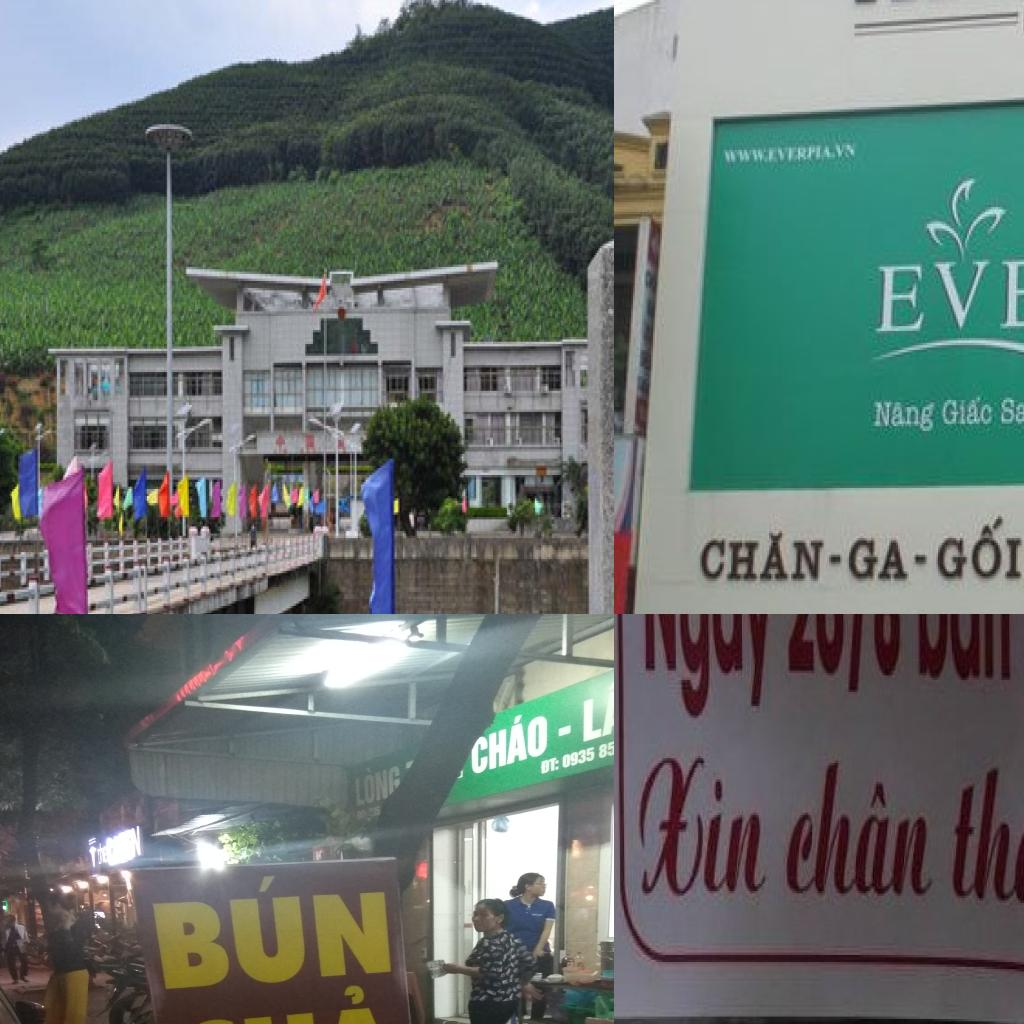text: (142, 865, 396, 994), (786, 761, 945, 898), (637, 751, 779, 898), (639, 614, 779, 727), (873, 250, 1024, 335), (948, 763, 1024, 917), (782, 614, 904, 701), (165, 981, 408, 1024), (914, 614, 1015, 687), (693, 531, 825, 583), (936, 514, 1024, 583), (468, 705, 550, 778), (577, 657, 614, 746), (724, 142, 860, 166), (849, 536, 913, 581), (351, 759, 403, 809), (561, 727, 614, 770), (871, 400, 938, 433), (940, 393, 996, 428), (998, 395, 1024, 435), (538, 755, 560, 776), (555, 724, 573, 738)
